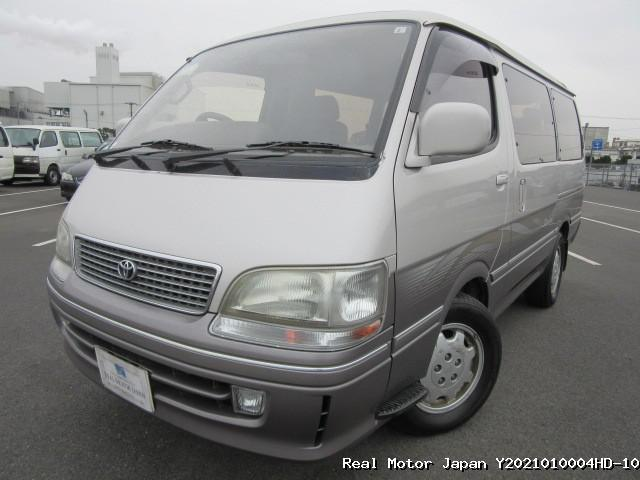van: (50, 15, 584, 451)
